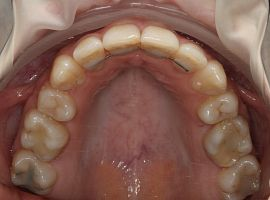UL1BC_decay: (197, 90, 239, 125)
UL1M_decay: (215, 153, 261, 200)
UL2BC_decay: (204, 118, 248, 169)
ULCI_decay: (140, 27, 178, 56)
ULC_healthy: (188, 62, 226, 96)
ULLI_decay: (173, 45, 207, 72)
UR1BC_healthy: (36, 85, 78, 122)
UR1M_decay: (10, 150, 58, 196)
UR2BC_healthy: (21, 110, 70, 164)
URCI_decay: (103, 22, 141, 58)
URC_healthy: (51, 56, 85, 90)
URLI_decay: (73, 37, 104, 70)
